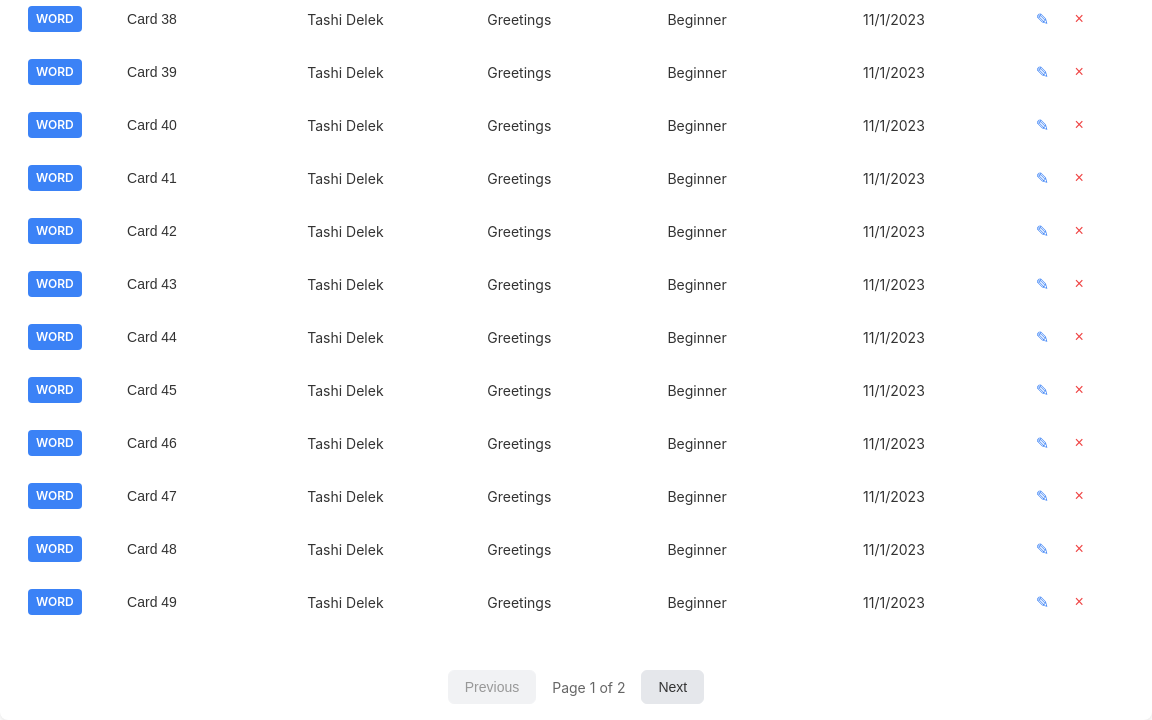
Test: AdminCardTable › pagination › changes page when next/previous clicked
This screenshot has width=1152, height=720.
(page scrolled)
Click the button with aria-label "Next page": point(673, 687) 641,670 -> 704,704
(page scrolled)
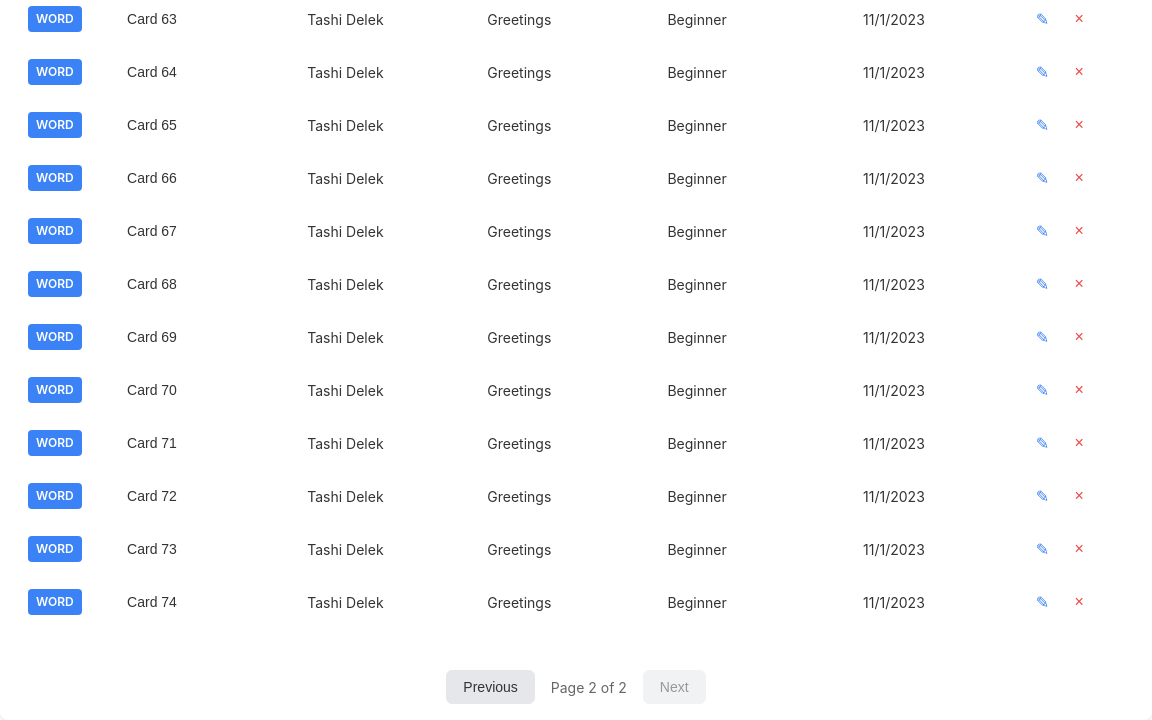
Expected: the text "Page 2 of 2" is shown, 551,676 -> 627,698
